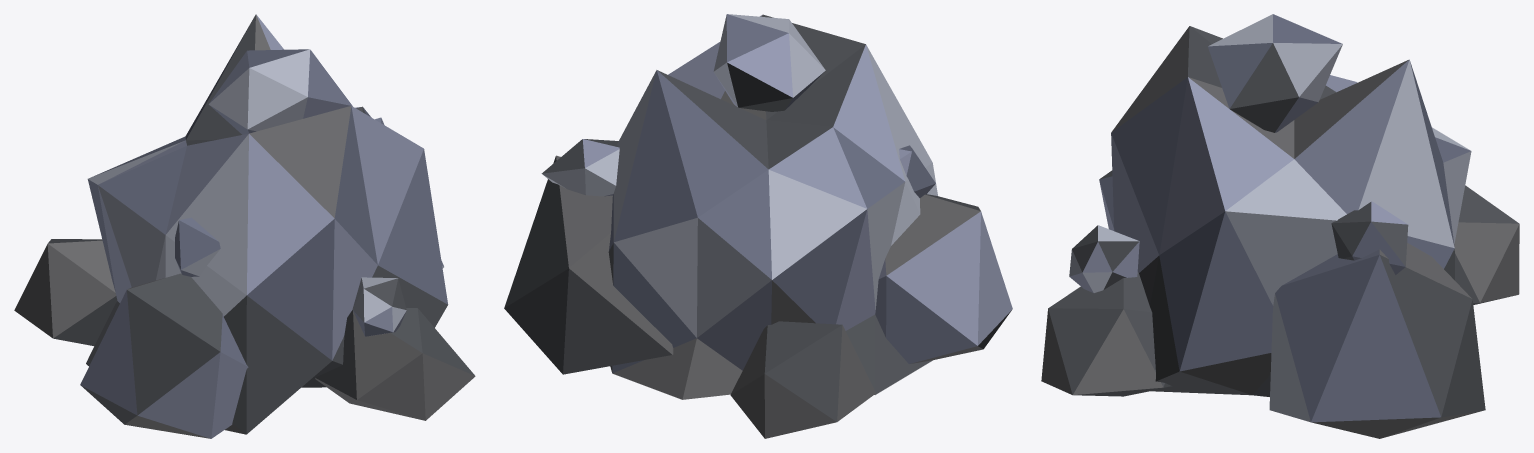
File: titanium_ore_a.glb
The picture shows the model from 3 angles, left to right: view 1: azimuth 30°, elevation 25°; view 2: azimuth 150°, elevation 25°; view 3: azimuth 270°, elevation 25°; orthographic projection. The views are drawn at different scales.
Visible parts, largest first — view 1: titanium_ore_a; view 2: titanium_ore_a; view 3: titanium_ore_a.
Part boxes in pixels (<box>): titanium_ore_a: <box>14,14,475,438</box>; titanium_ore_a: <box>504,14,1012,438</box>; titanium_ore_a: <box>1041,14,1519,438</box>.
Bounding box in the file's own units: 1.17 × 0.859 × 1.12.
